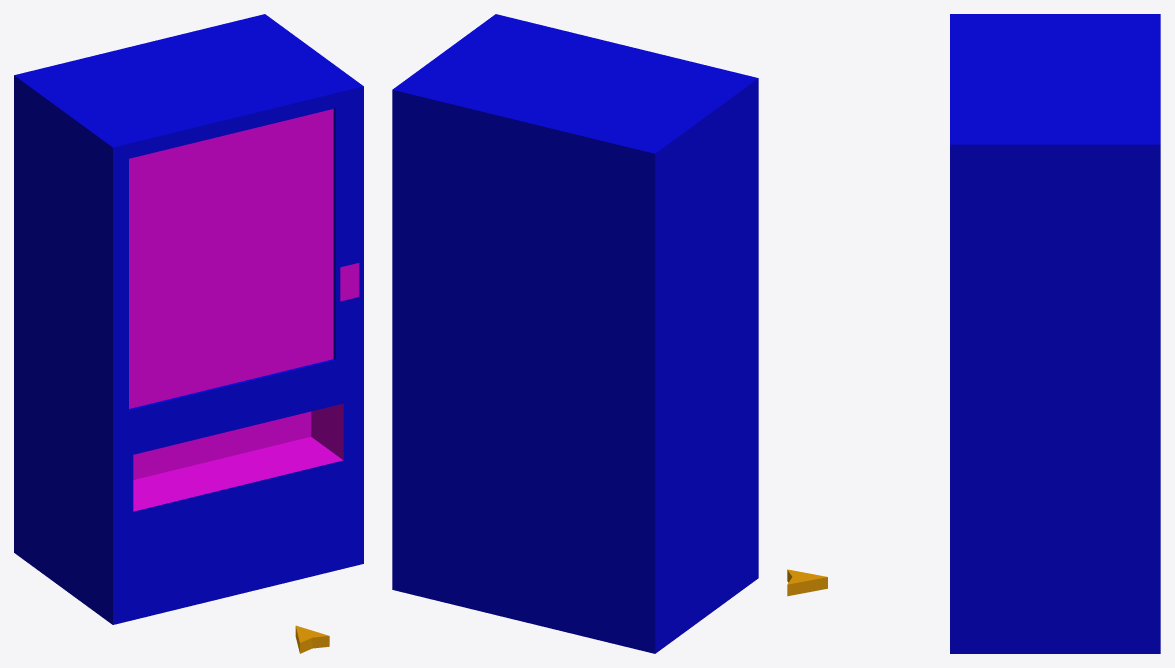
File: SM_Vend.fbx
The picture shows the model from 3 angles, left to right: view 1: azimuth 30°, elevation 25°; view 2: azimuth 150°, elevation 25°; view 3: azimuth 270°, elevation 25°; orthographic projection. The views are drawn at different scales.
Parts seen in each view (by area): view 1: SM_Vend; view 2: SM_Vend; view 3: SM_Vend.
Boxes of the visible parts, box(x1,y1,x2,y2) form: SM_Vend: box(14, 14, 363, 653); SM_Vend: box(392, 14, 758, 653); SM_Vend: box(787, 14, 1160, 653).
Size of the model in its own units: 110 by 200 by 133.
